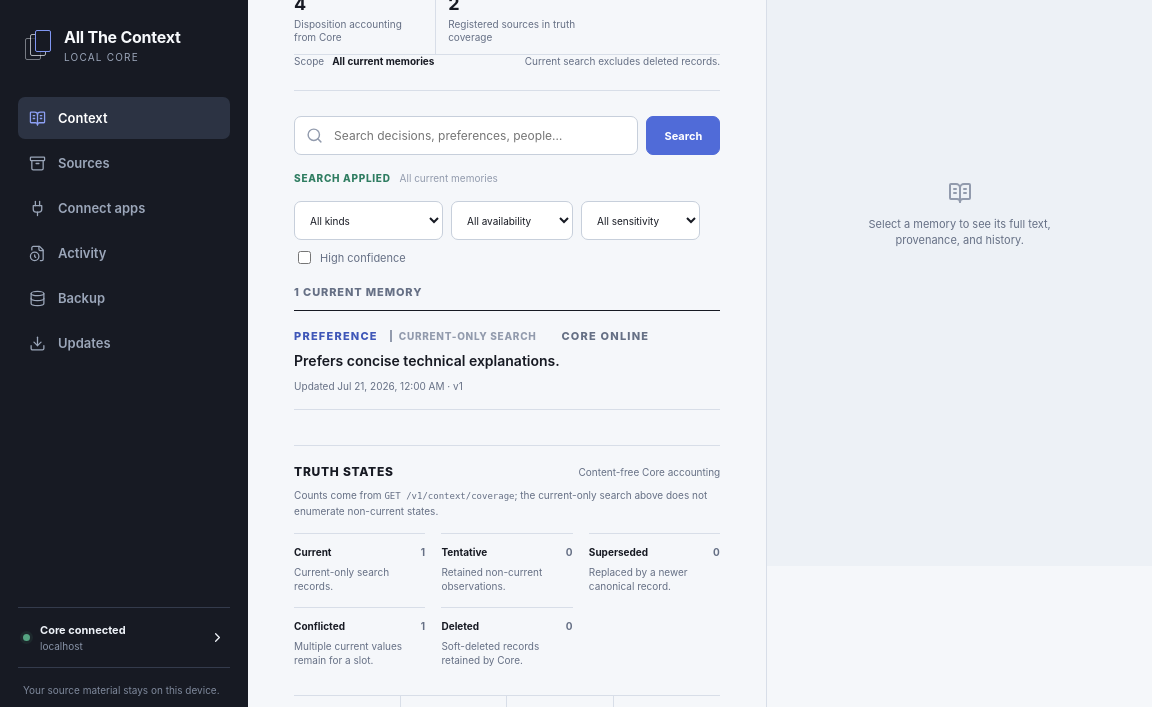
it: dashboard › clears failed truth coverage metrics while preserving search counts and restores them on retry
(page scrolled)
Click the button with aria-label "preference memory" at (507, 361), box left=294, top=311, right=720, bottom=410
(page scrolled)
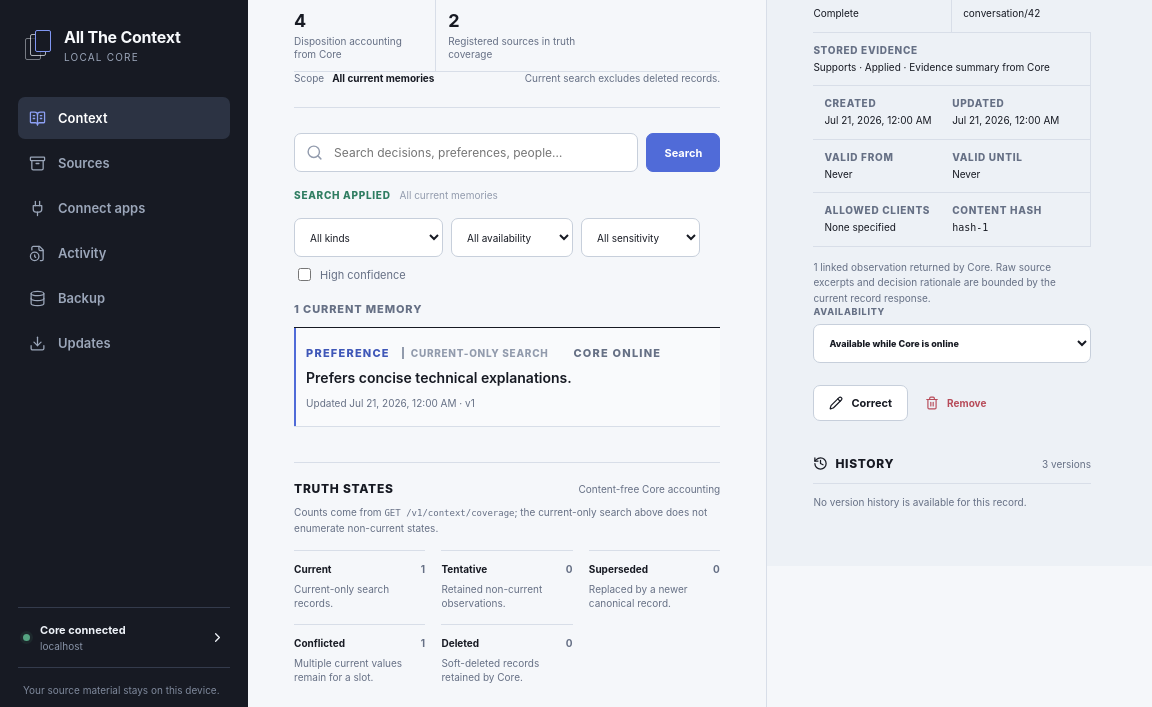
Select "Only on this device" in the dropdown labelled "Availability" at (952, 344), box left=813, top=324, right=1091, bottom=363
(page scrolled)
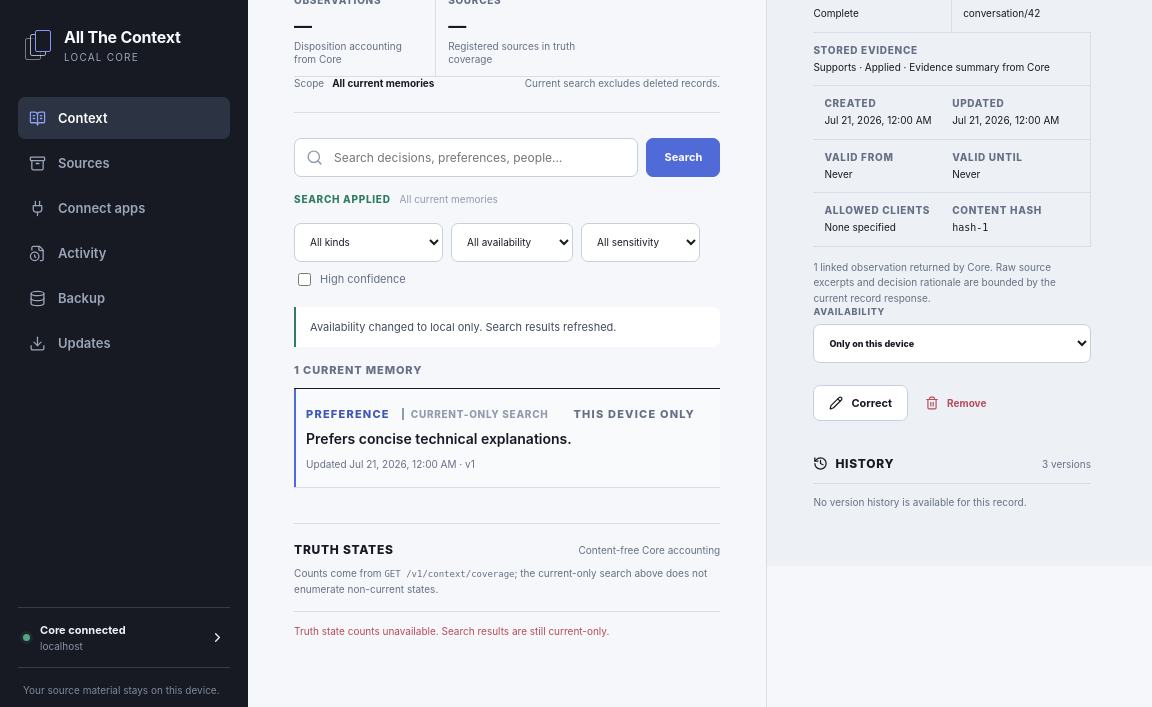
Expected: the text "Prefers concise technical explanations." is shown, left=306, top=429, right=572, bottom=449
Result: the text "—" below "Observations" is shown at left=294, top=15, right=312, bottom=36
Result: the 2nd text "—" is shown at left=448, top=15, right=466, bottom=36
Select "Available while Core is online" in the dropdown labelled "Availability" at (952, 344), box left=813, top=324, right=1091, bottom=363
(page scrolled)
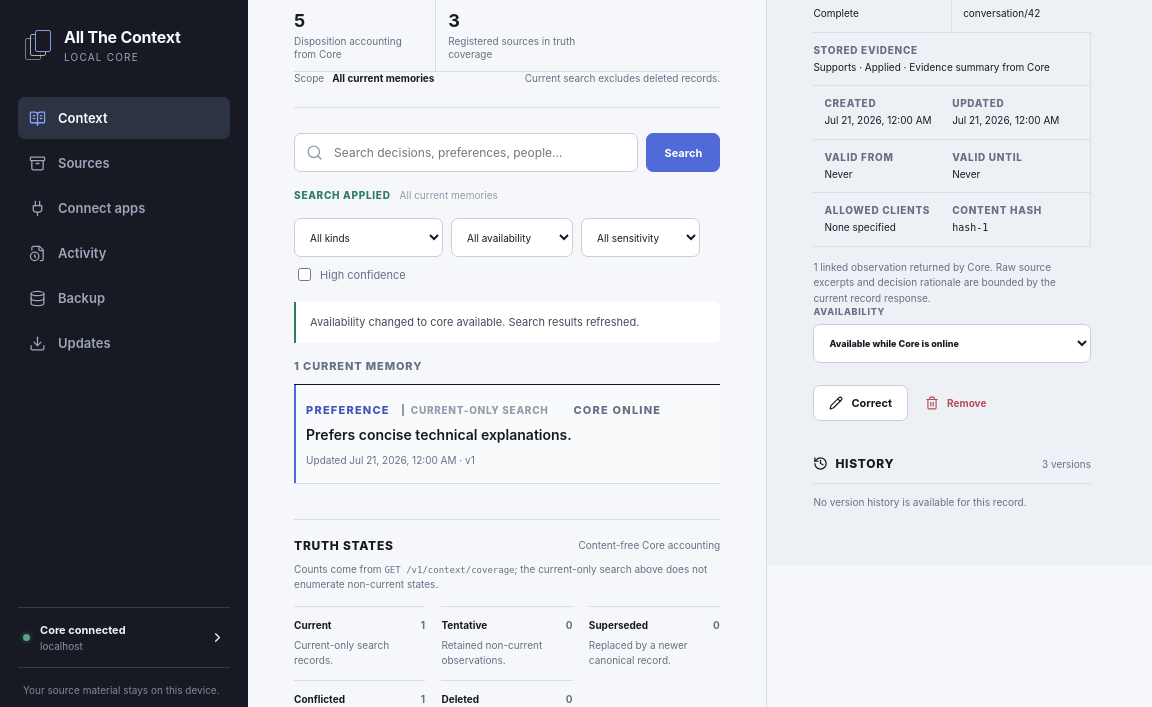
Result: the text "Availability changed to core available. Search results refreshed." is shown at left=294, top=302, right=720, bottom=343
Result: the text "5" is shown at left=294, top=10, right=305, bottom=31
Result: the text "3" is shown at left=448, top=10, right=459, bottom=31
